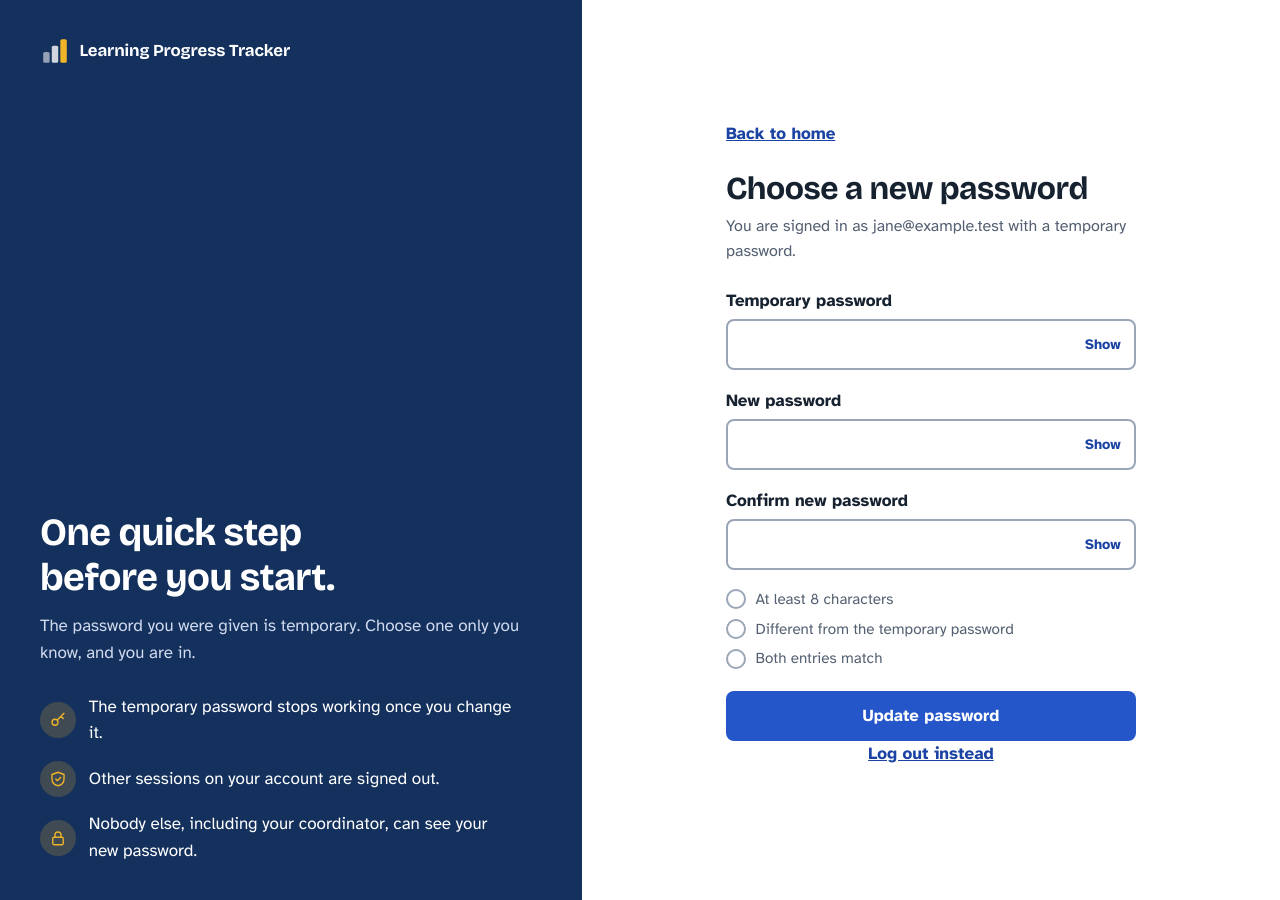
ChangePasswordPage › rejects a new password that is too short
Type "Temp-Pass-1234" into the password field labelled "Temporary password" at (931, 345), box [726,319,1136,370]
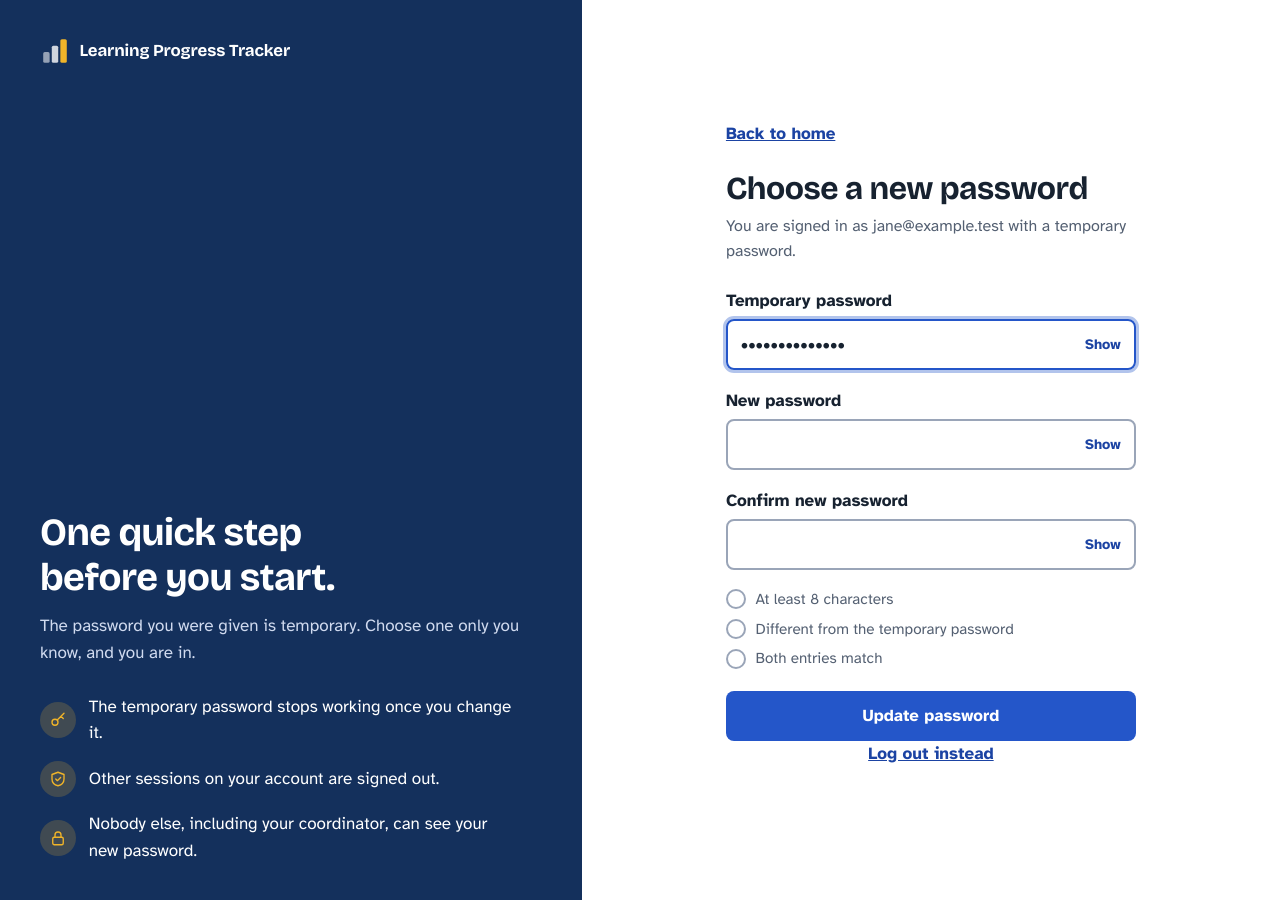
Type "short" into the password field labelled "New password" at (931, 445), box [726,419,1136,470]
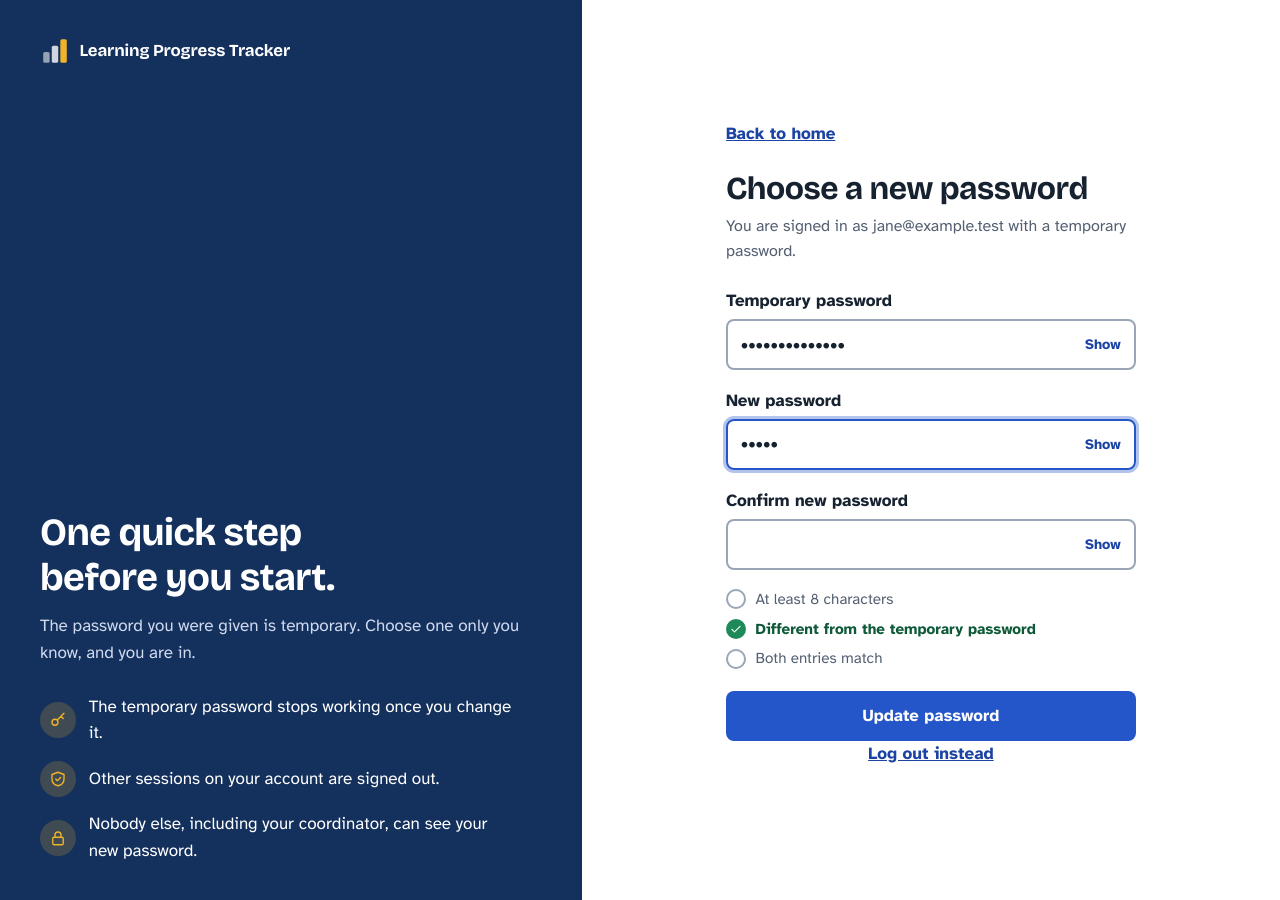
Type "short" into the password field labelled "Confirm new password" at (931, 544), box [726,519,1136,570]
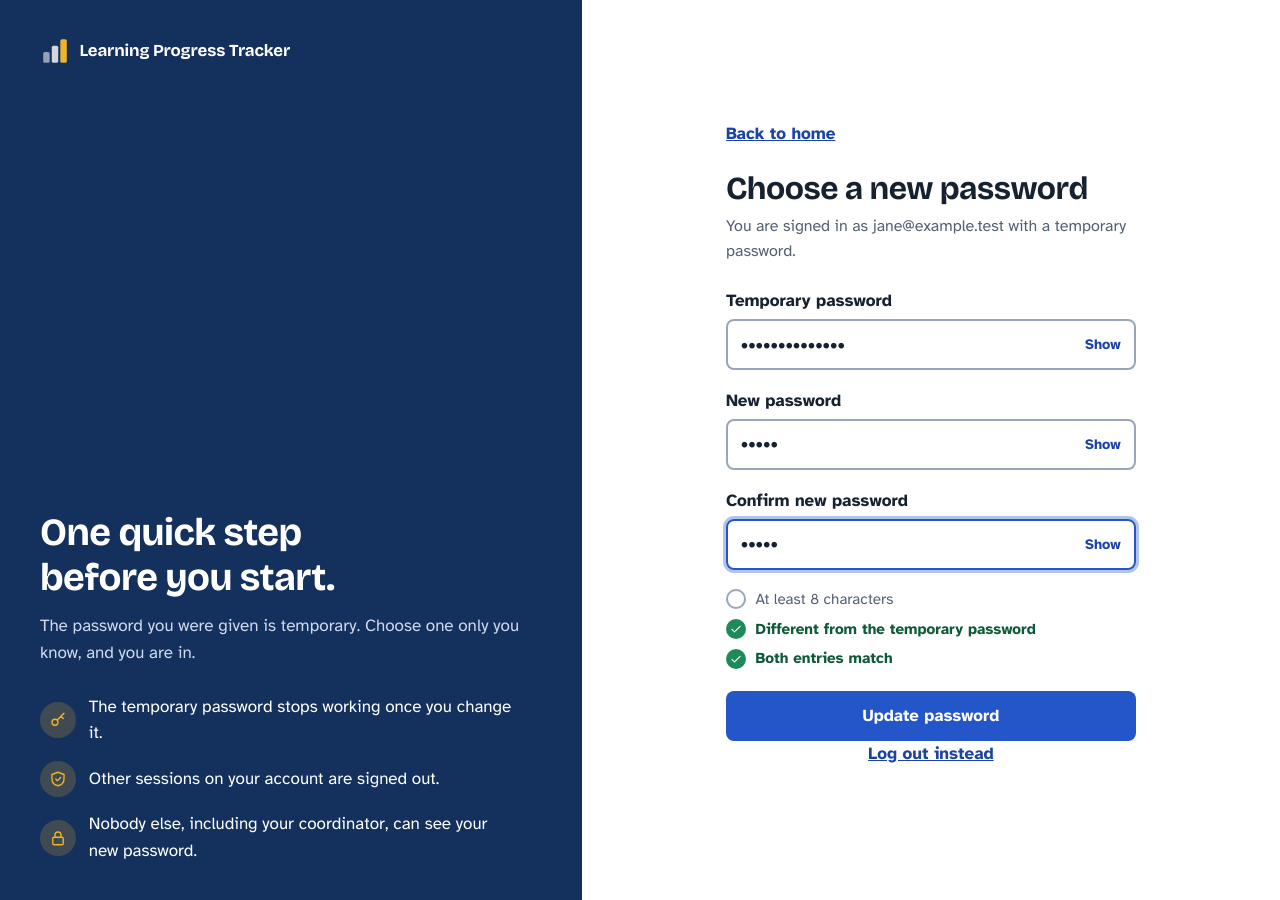
Click the button "Update password" at (931, 716), box [726,691,1136,741]
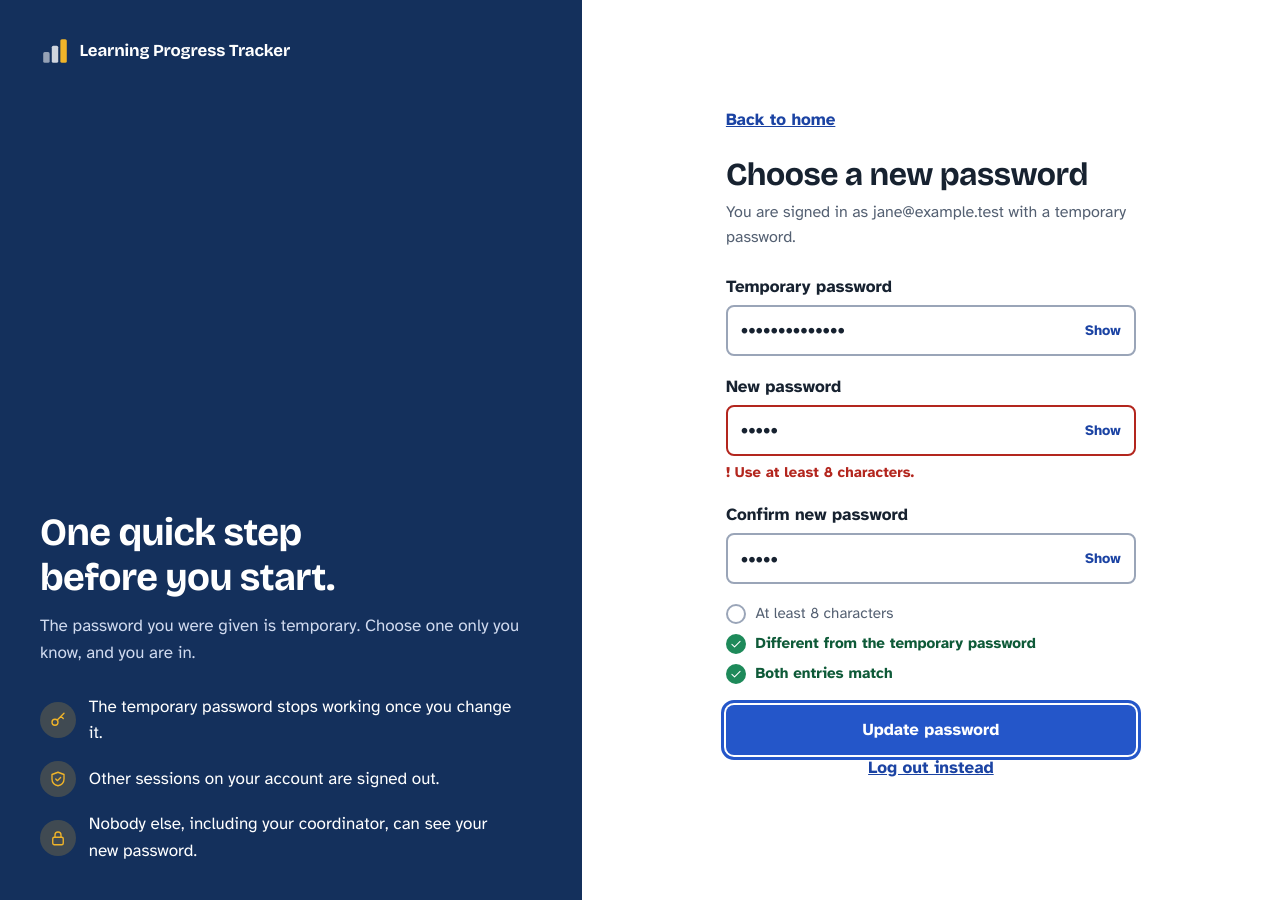
Result: the text "Use at least 8 characters." is shown at [735,464,914,482]
